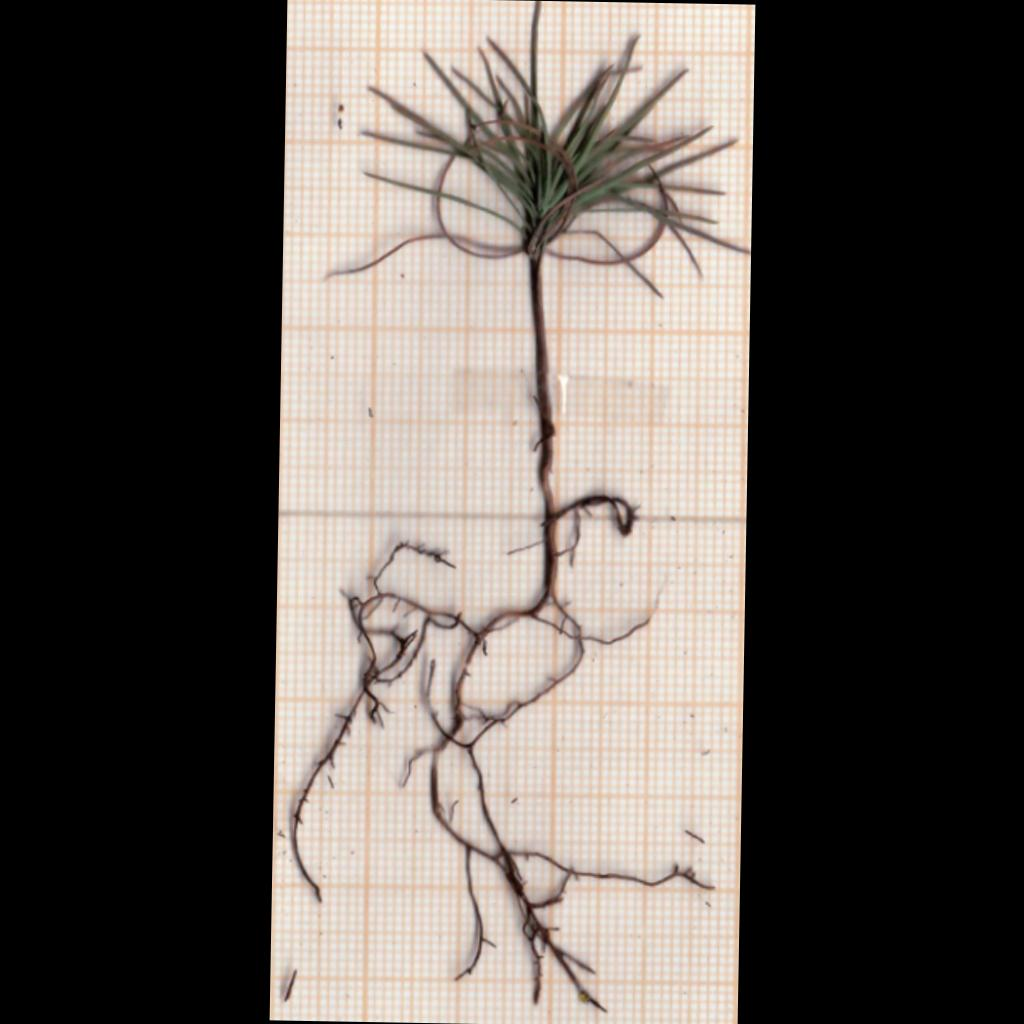flowerCedr: (329, 1, 749, 276)
rootCedr: (292, 496, 650, 1011)
stemCedr: (530, 258, 555, 522)
